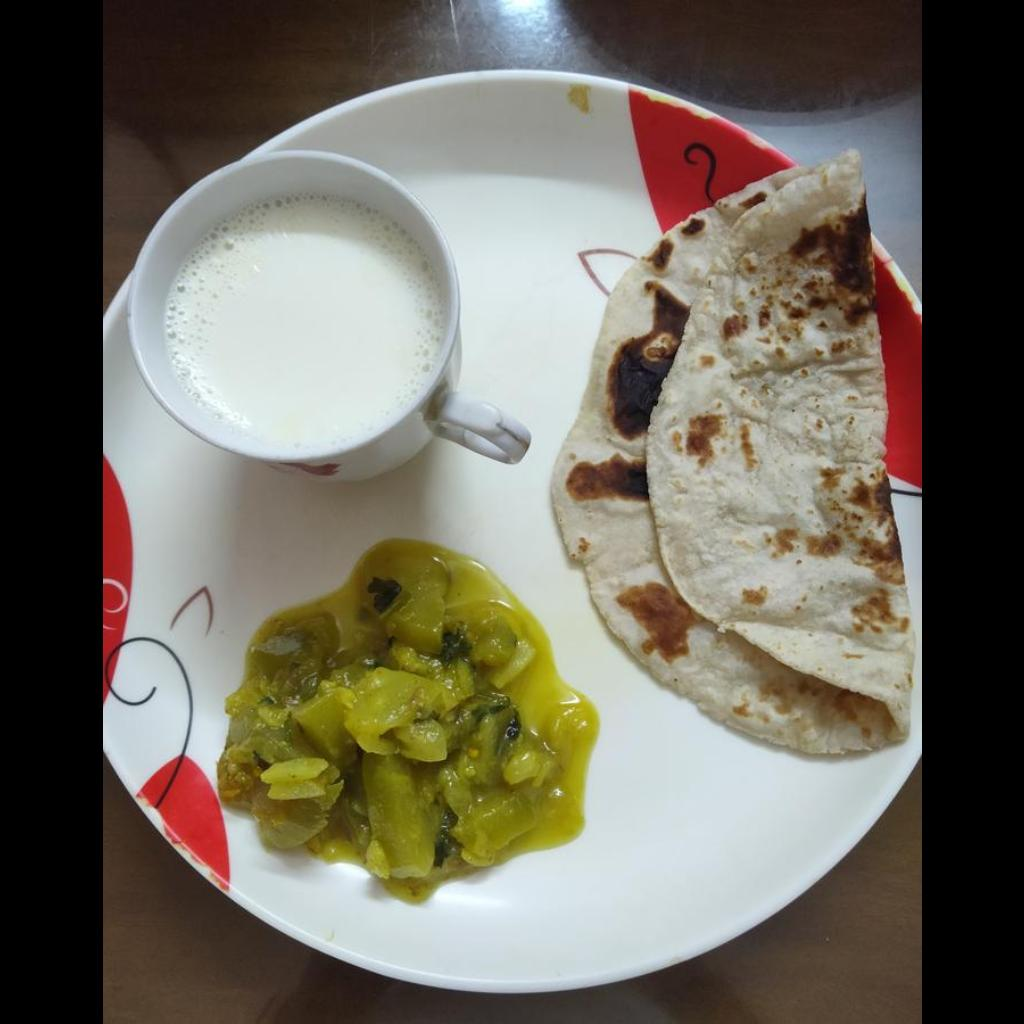milk: (165, 200, 439, 448)
ruti: (544, 149, 913, 755)
vegetable: (222, 565, 563, 882)
